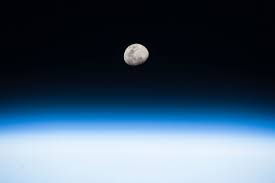moon: (122, 41, 150, 68)
